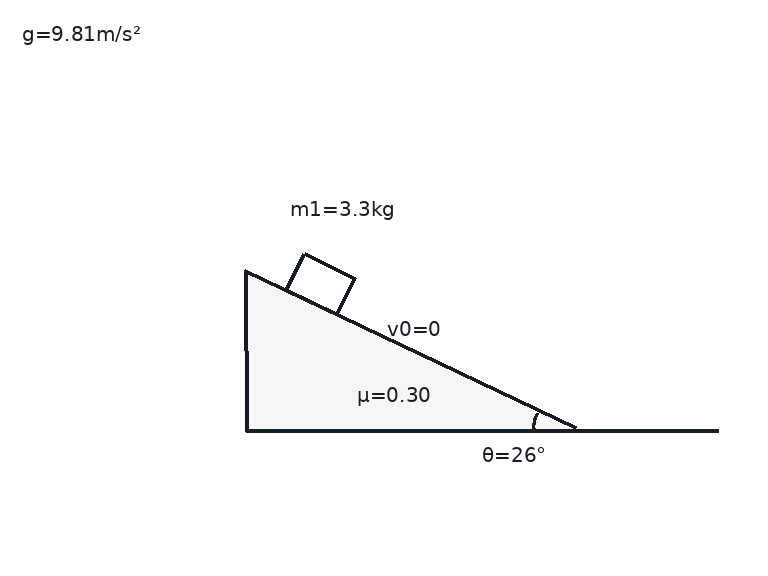block: (284, 251, 356, 316)
ramp: (243, 268, 575, 432)
